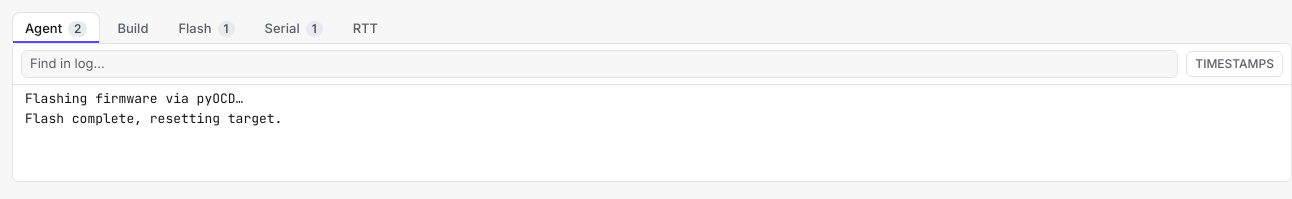
StepLogTabs › switches panes per stream, and an empty stream shows the empty state
The width and height of the screenshot is (1292, 199).
Click the tab "Serial 1" at (294, 28), box 252,12 -> 336,43
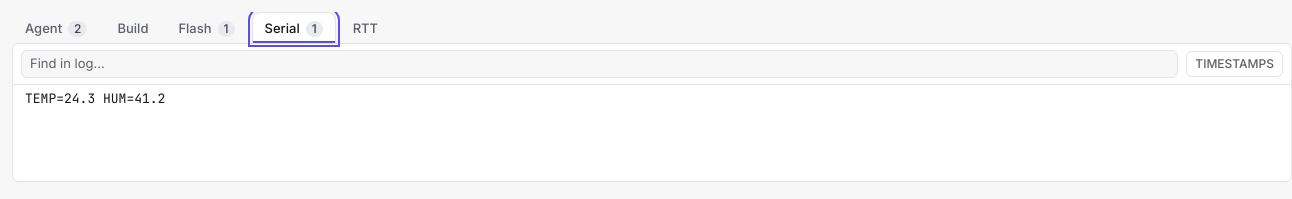
Result: the element named "Flash firmware — Serial log" reads "TEMP=24.3 HUM=41.2" at 25,90 -> 165,107
Result: the element named "Flash firmware — Serial log" no longer shows "Flashing firmware via pyOCD…" at 25,90 -> 165,107
Click the tab "RTT" at (365, 28), box 340,12 -> 391,43
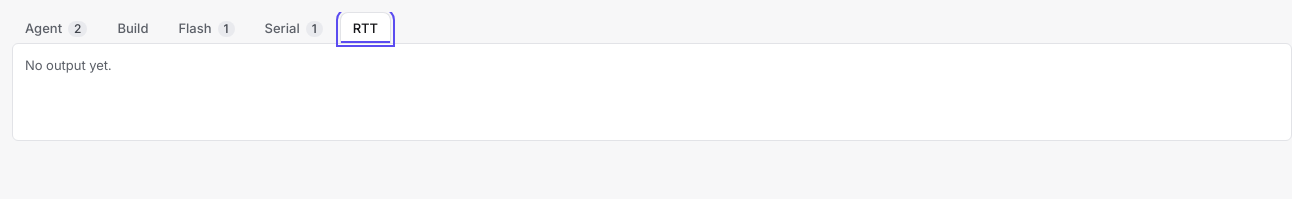
Result: the text "No output yet." is shown at 25,57 -> 112,73
